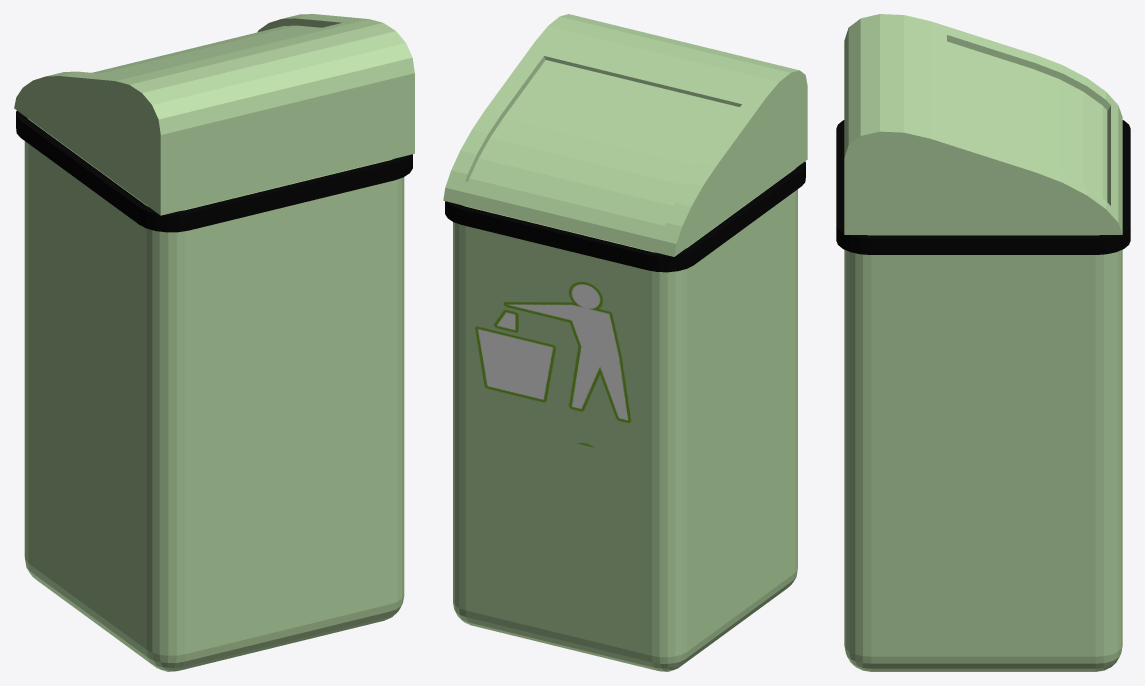
File: trashBin.fbx
3 views of the same model, side by side, from view 1: azimuth 30°, elevation 25°; view 2: azimuth 150°, elevation 25°; view 3: azimuth 270°, elevation 25° (orthographic). The views are drawn at different scales.
Parts seen in each view (by area): view 1: Cube, Cube.001, Cube.002; view 2: Cube, Cube.001, Cube.002; view 3: Cube, Cube.001, Cube.002.
Boxes of the visible parts, x1,y1,x2,y2 form: Cube: (16, 111, 412, 671); Cube.001: (14, 14, 414, 215); Cube.002: (92, 25, 321, 75); Cube: (445, 161, 805, 671); Cube.001: (443, 14, 807, 256); Cube.002: (469, 60, 739, 225); Cube: (836, 120, 1130, 671); Cube.001: (844, 14, 1122, 234); Cube.002: (947, 41, 1102, 197).
Bounding box in the file's own units: 212 × 436 × 212.
Materials: 4 (3 with a texture image).
